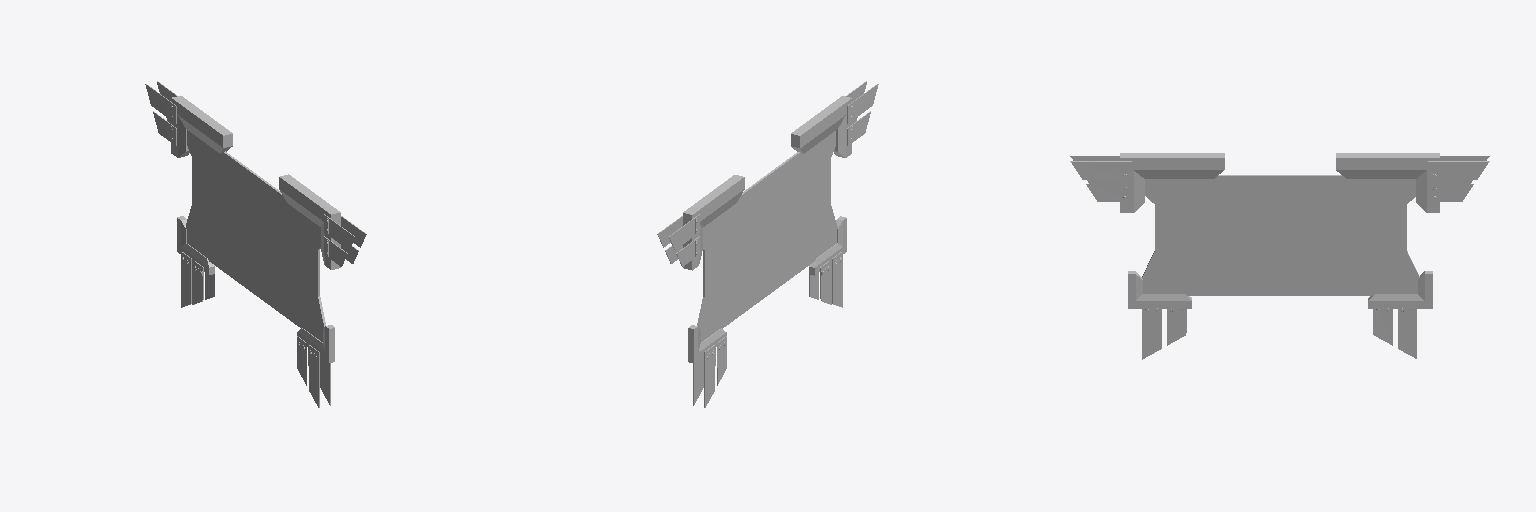
Rendered from Signage_08 FINAL SCORE.obj.
3 views of the same model, side by side, from view 1: azimuth 30°, elevation 25°; view 2: azimuth 150°, elevation 25°; view 3: azimuth 270°, elevation 25° (orthographic).
Parts seen in each view (by area): view 1: Final_screen_sign_01; view 2: Final_screen_sign_01; view 3: Final_screen_sign_01.
Boxes of the visible parts, box(x1,y1,x2,y2) form: Final_screen_sign_01: box(145, 81, 366, 407); Final_screen_sign_01: box(657, 81, 878, 407); Final_screen_sign_01: box(1070, 153, 1489, 359).
Size of the model in its own units: 10.73 by 154 by 290.